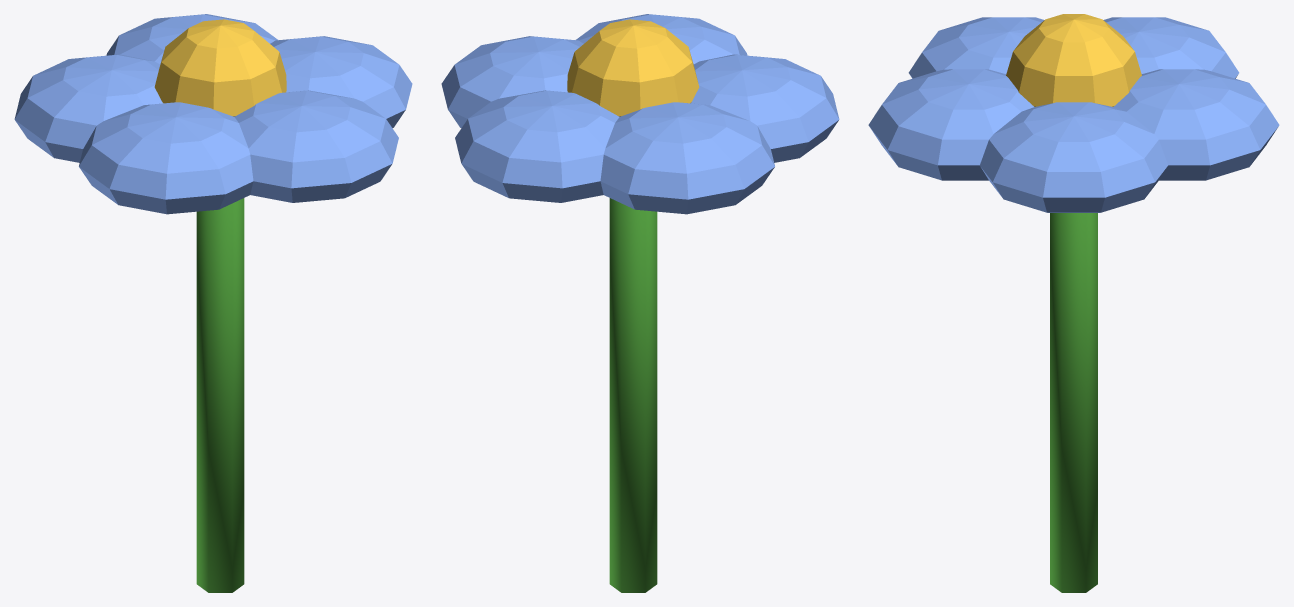
File: flower_blue.glb
3 views of the same model, side by side, from view 1: azimuth 30°, elevation 25°; view 2: azimuth 150°, elevation 25°; view 3: azimuth 270°, elevation 25° (orthographic).
Parts seen in each view (by area): view 1: flower_blue; view 2: flower_blue; view 3: flower_blue.
Part boxes in pixels (box(x1,y1,x2,y2)): flower_blue: box(14, 14, 412, 592); flower_blue: box(441, 14, 839, 592); flower_blue: box(868, 14, 1279, 592).
Bounding box in the file's own units: 0.1946 × 0.31 × 0.2046.
